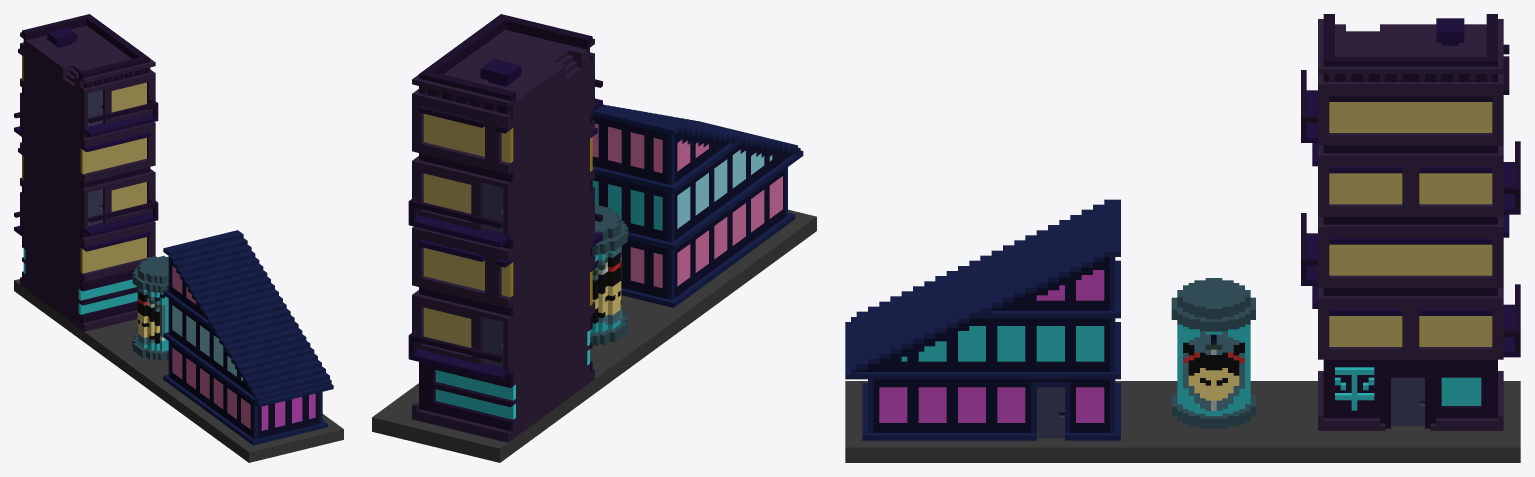
Rendered from SM_Environment_Street8.fbx.
3 views of the same model, side by side, from view 1: azimuth 30°, elevation 25°; view 2: azimuth 150°, elevation 25°; view 3: azimuth 270°, elevation 25° (orthographic). The views are drawn at different scales.
Visible parts, largest first — view 1: Street8; view 2: Street8; view 3: Street8.
Part boxes in pixels (left/top/right/bottom): Street8: left=14, top=14, right=343, bottom=462; Street8: left=372, top=14, right=816, bottom=462; Street8: left=845, top=14, right=1520, bottom=462.
Bounding box in the file's own units: 560 × 1520 × 2400.
Materials: 4 (1 with a texture image).
